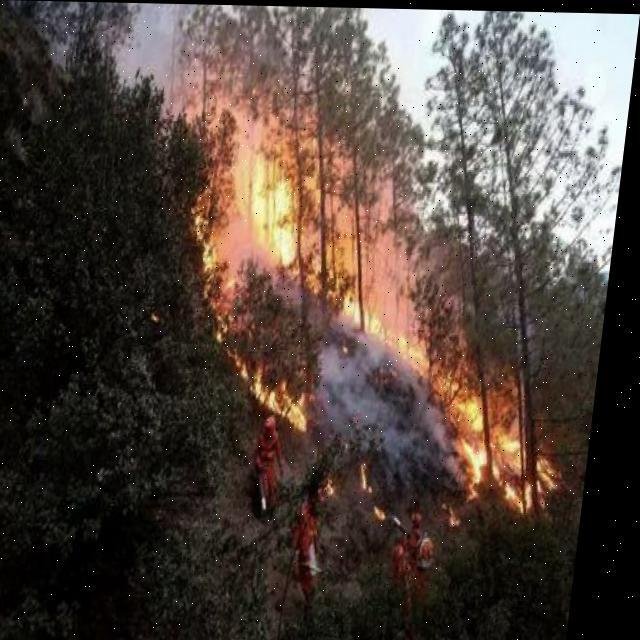Fire: (167, 96, 606, 524)
